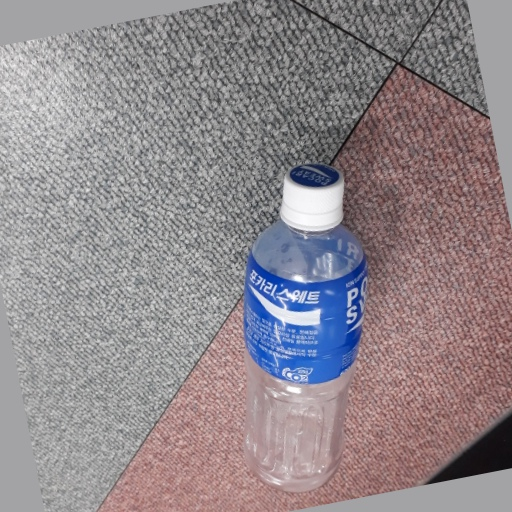Plastic_0: (240, 165, 367, 492)
